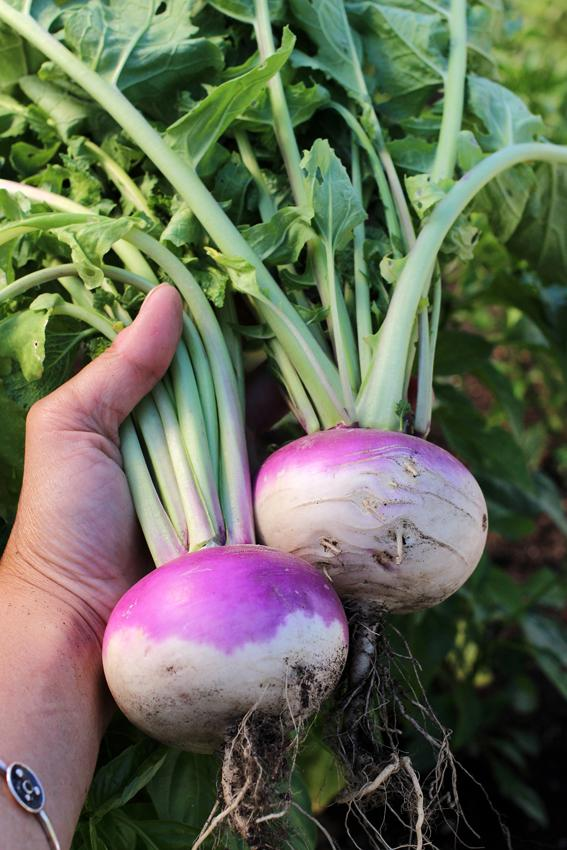sweetpotato: (252, 424, 489, 615)
